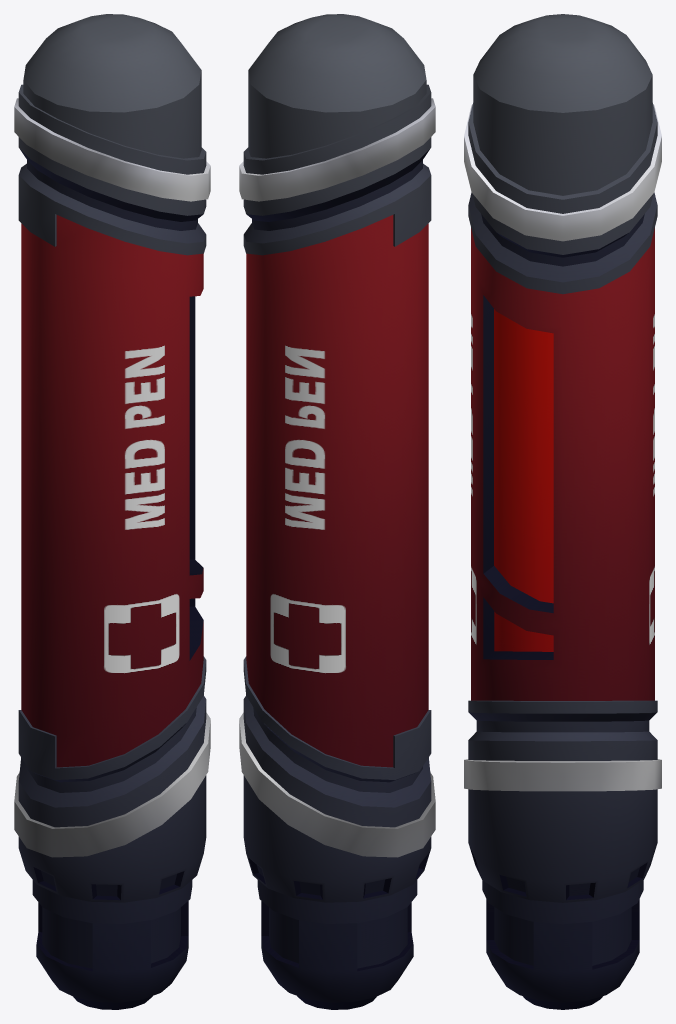
Rendered from Medpen.fbx.
The picture shows the model from 3 angles, left to right: view 1: azimuth 30°, elevation 25°; view 2: azimuth 150°, elevation 25°; view 3: azimuth 270°, elevation 25°; orthographic projection.
Parts seen in each view (by area): view 1: MEDPEN; view 2: MEDPEN; view 3: MEDPEN.
Boxes of the visible parts, box(x1,y1,x2,y2) form: MEDPEN: box(14, 14, 210, 1009); MEDPEN: box(239, 14, 435, 1009); MEDPEN: box(464, 14, 661, 1009).
Bounding box in the file's own units: 205 × 1103 × 205.
